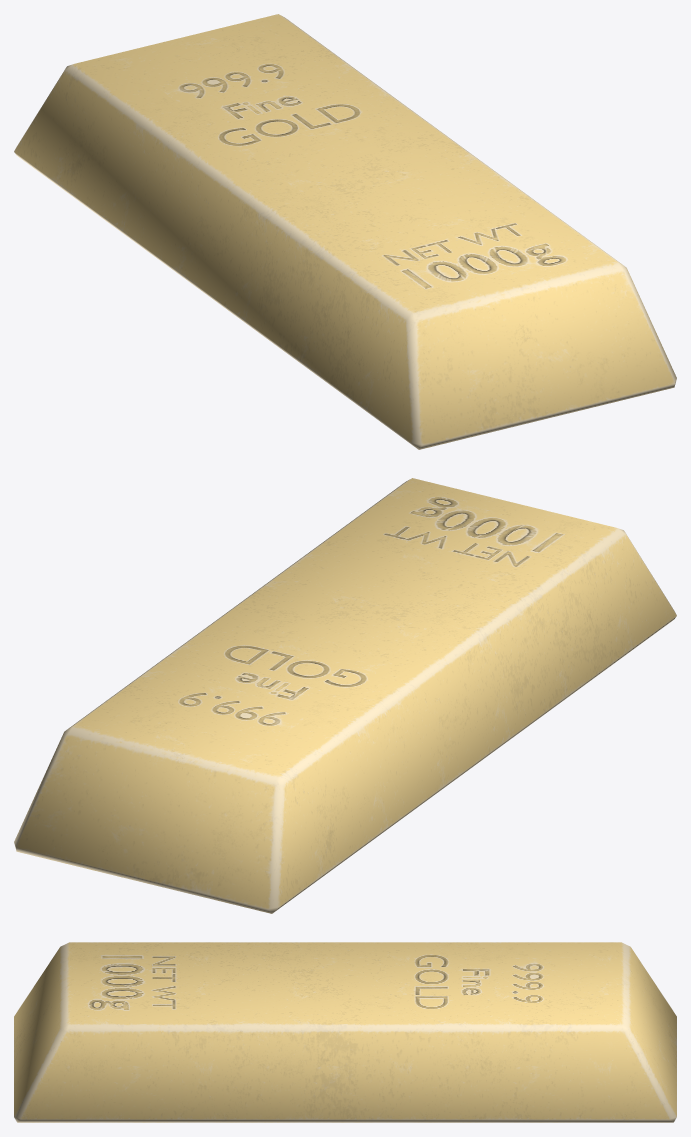
The model's file is Gold-V01.glb.
3 renders of one model, top to bottom at view 1: azimuth 30°, elevation 25°; view 2: azimuth 150°, elevation 25°; view 3: azimuth 270°, elevation 25°, orthographic. The views are drawn at different scales.
Parts seen in each view (by area): view 1: Gold V01 - 500; view 2: Gold V01 - 500; view 3: Gold V01 - 500.
Part boxes in pixels (<box>): Gold V01 - 500: <box>14,14,676,449</box>; Gold V01 - 500: <box>14,478,676,913</box>; Gold V01 - 500: <box>14,942,676,1122</box>.
Size of the model in its own units: 0.2056 by 0.0804 by 0.5453.
Materials: 1 (1 with a texture image).
